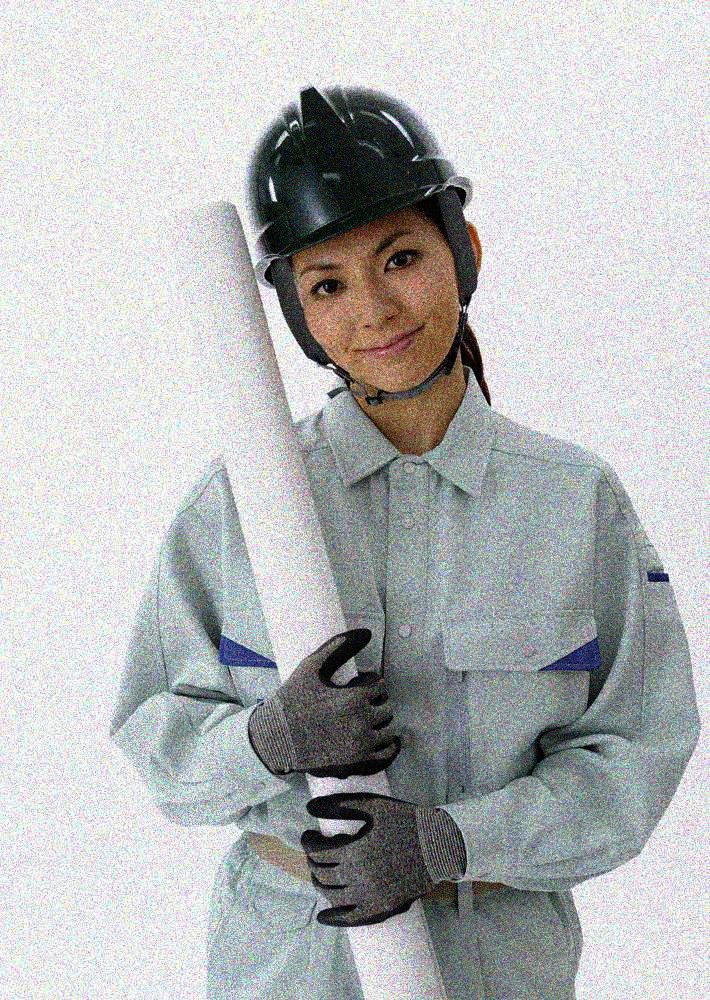helmet: (241, 82, 479, 397)
